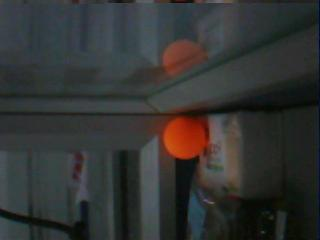oball: (163, 116, 206, 159)
